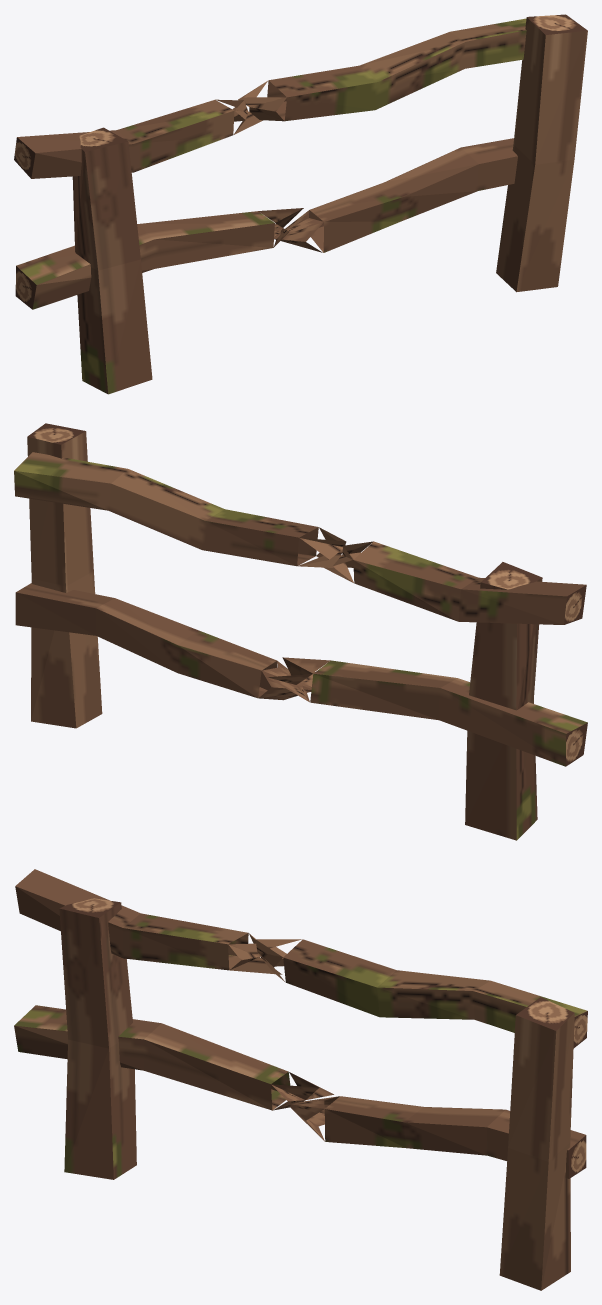
Rendered from SM_ST02_FenceBroken.fbx.
The picture shows the model from 3 angles, top to bottom: view 1: azimuth 30°, elevation 25°; view 2: azimuth 150°, elevation 25°; view 3: azimuth 330°, elevation 25°; orthographic projection. The views are drawn at different scales.
Visible parts, largest first — view 1: ST02_Fence; view 2: ST02_Fence; view 3: ST02_Fence.
Part boxes in pixels (x1=…): ST02_Fence: x1=14, y1=14, x2=587, y2=394; ST02_Fence: x1=14, y1=423, x2=587, y2=840; ST02_Fence: x1=14, y1=869, x2=587, y2=1290.
Bounding box in the file's own units: 2.23 × 1.05 × 0.3057.
